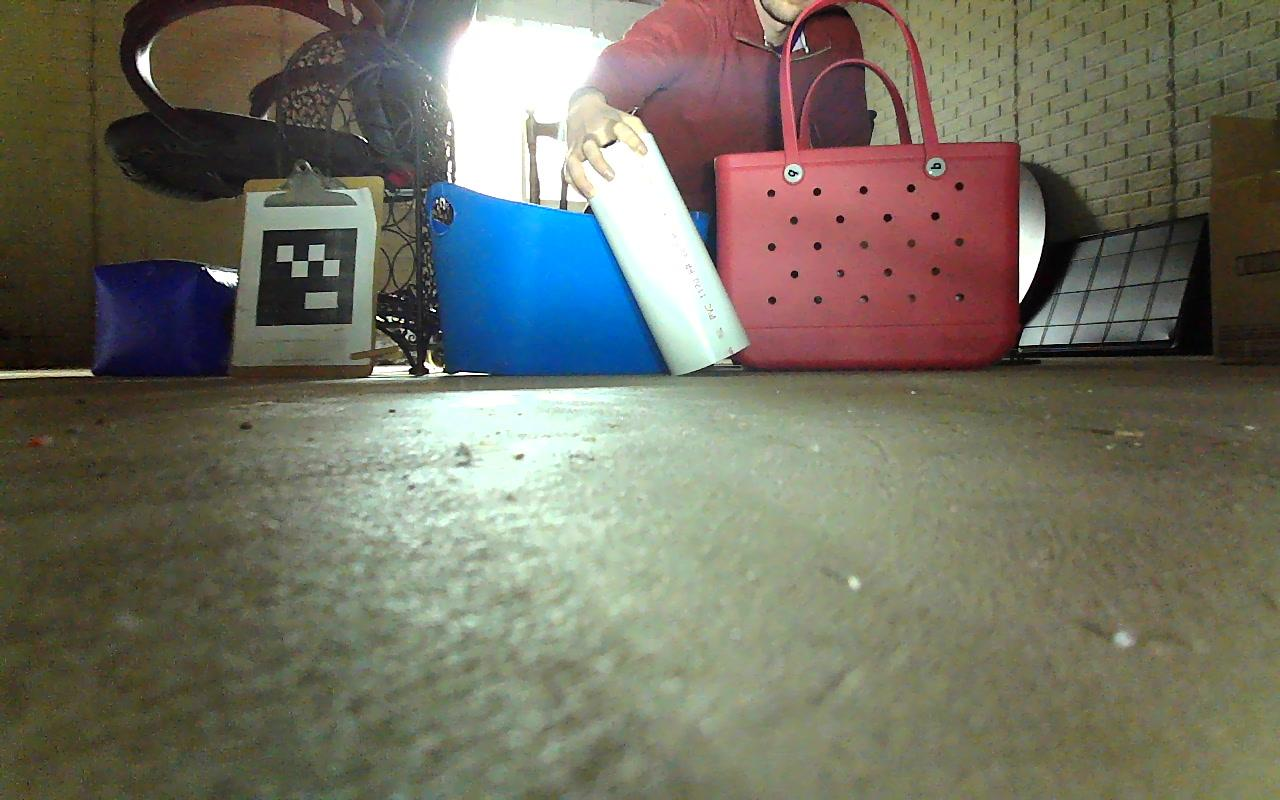coral: (572, 113, 753, 375)
